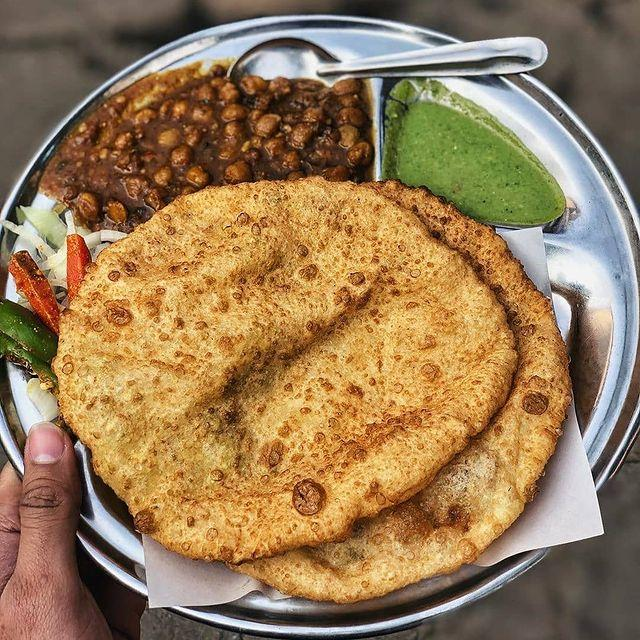Chole: (123, 63, 370, 187)
